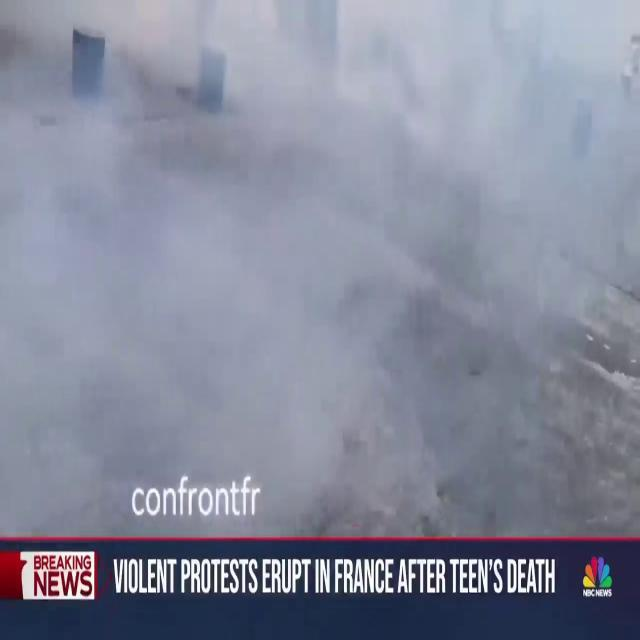Smoke: (0, 0, 639, 531)
